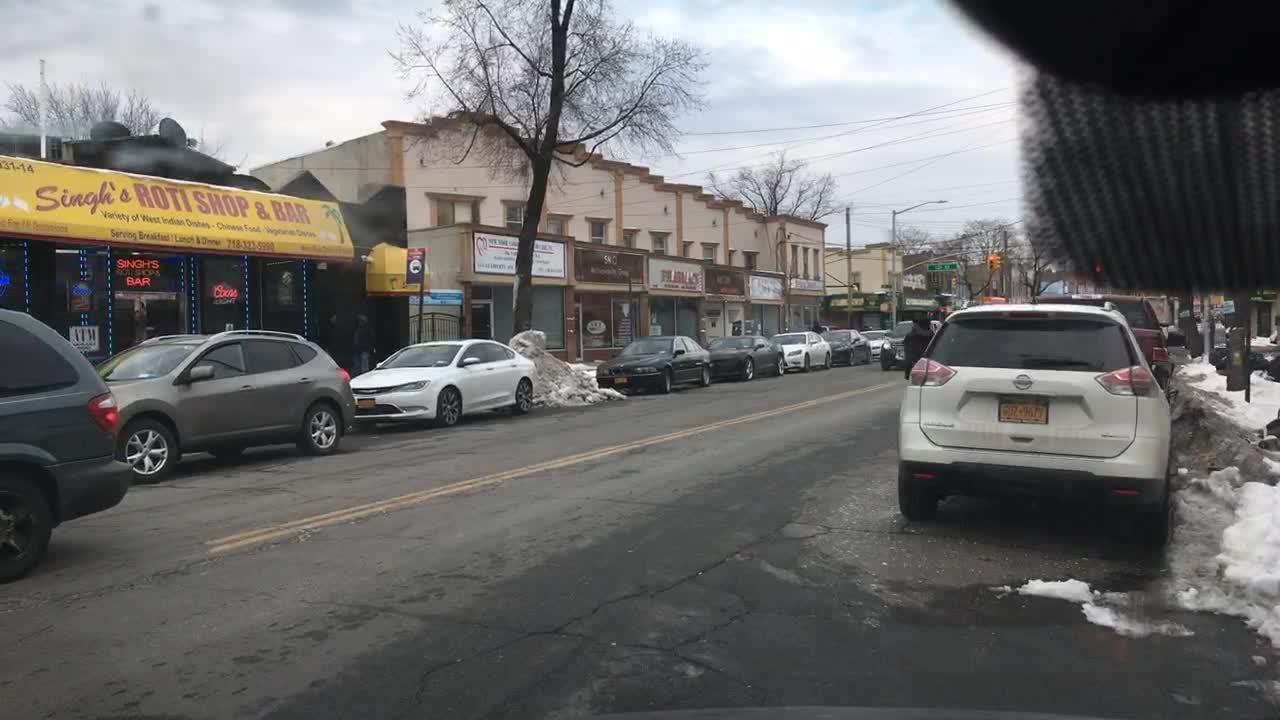Nissan: (1009, 371, 1040, 396)
